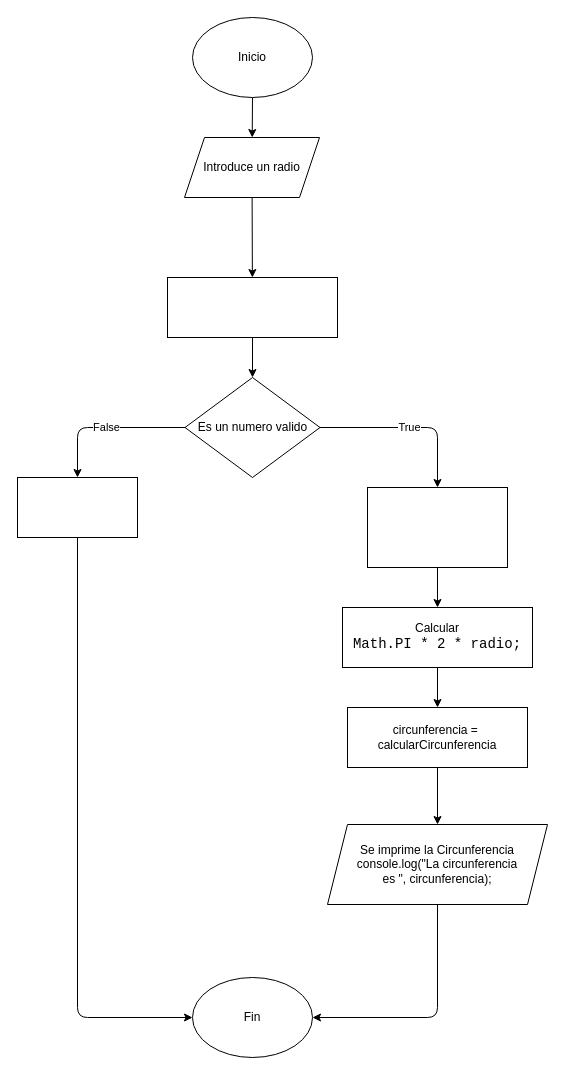
Some shapes in this 565 by 1075 pixel diagram are drawn without their labels. Each missing label, with the centre of its shape:
Error Es NaN: [77,507]
Llamar a la funcion calcularCircunferencia (radio): [437,527]
Se convierte en numero en un numero redondo num = parseInt: [252,307]
